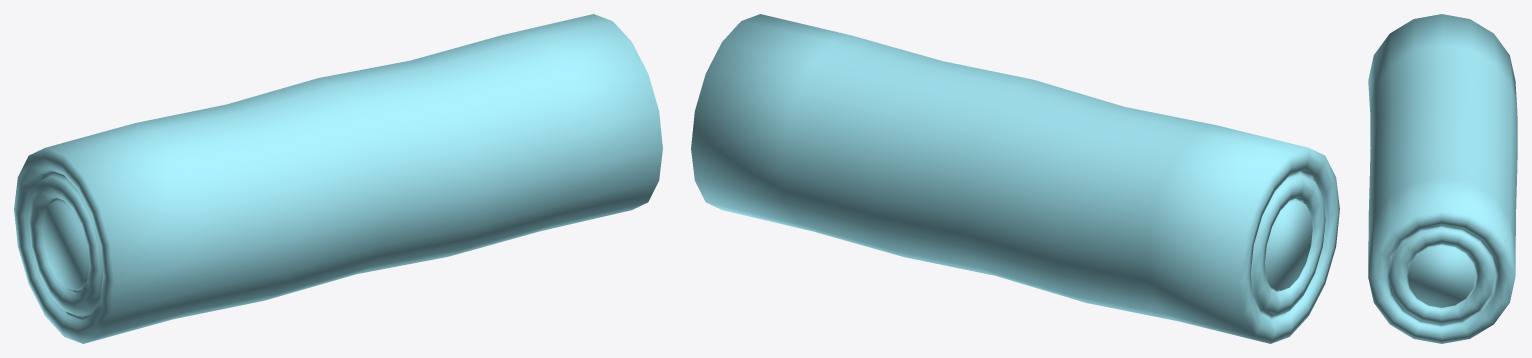
Rendered from Prop_Towel_02.fbx.
The picture shows the model from 3 angles, left to right: view 1: azimuth 30°, elevation 25°; view 2: azimuth 150°, elevation 25°; view 3: azimuth 270°, elevation 25°; orthographic projection. The views are drawn at different scales.
Parts seen in each view (by area): view 1: Prop_Towel_02; view 2: Prop_Towel_02; view 3: Prop_Towel_02.
Boxes of the visible parts, x1,y1,x2,y2 form: Prop_Towel_02: (14, 14, 662, 343); Prop_Towel_02: (691, 14, 1339, 343); Prop_Towel_02: (1368, 14, 1517, 343).
Size of the model in its own units: 45.83 by 14.76 by 14.63.
